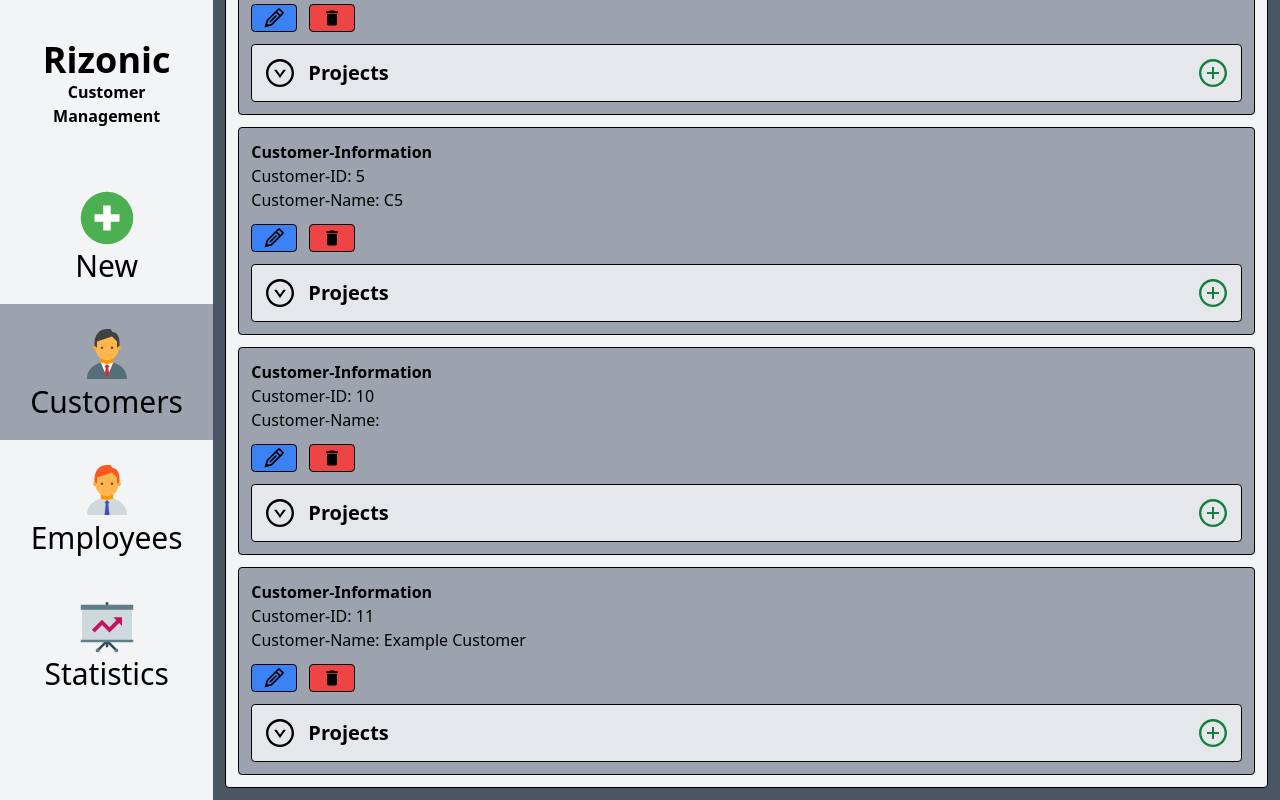
new › check newly added customer › open project dropdown
(page scrolled)
Step 1. Click the 4th icon with test id "open-project-dropdown" → (280, 733), box [264,717,296,749]
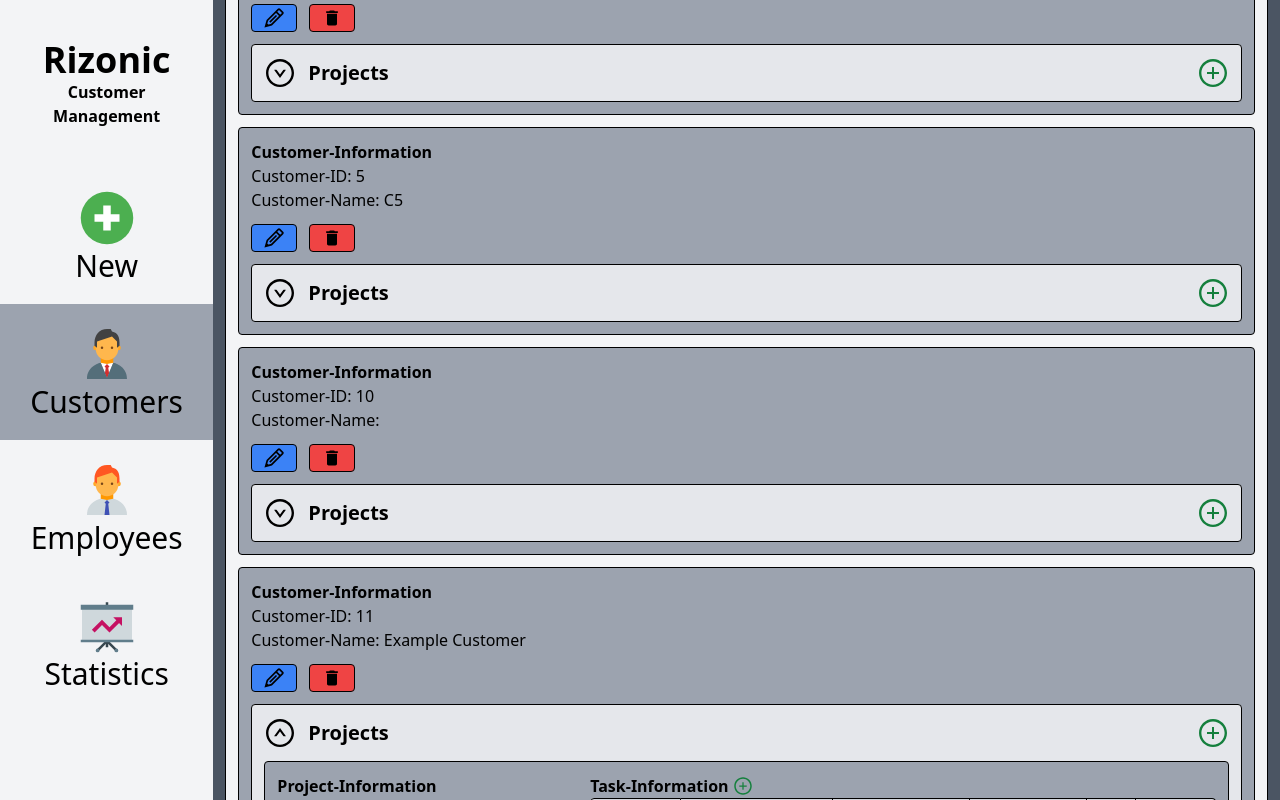
Expected: the heading "Project-Information" is shown, [277,775,437,797]
